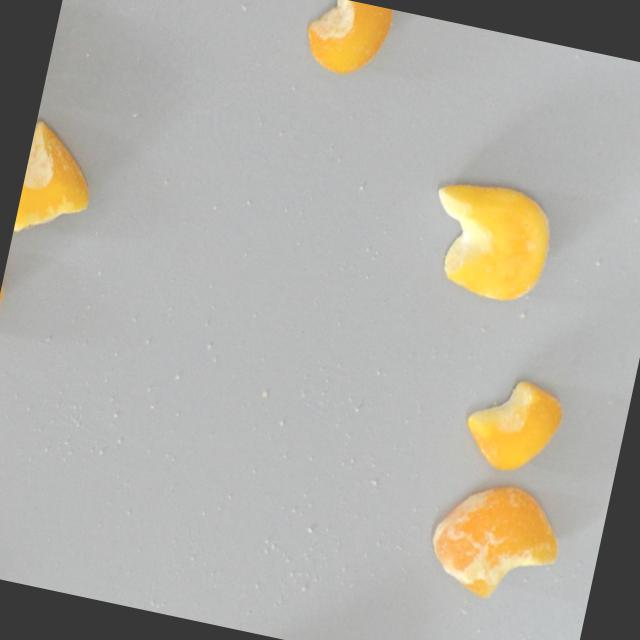no_canjicado: (417, 173, 559, 307), (456, 368, 568, 482)
no_desgerminado: (13, 121, 91, 237)
pelicula: (417, 469, 568, 615), (298, 0, 396, 83)
